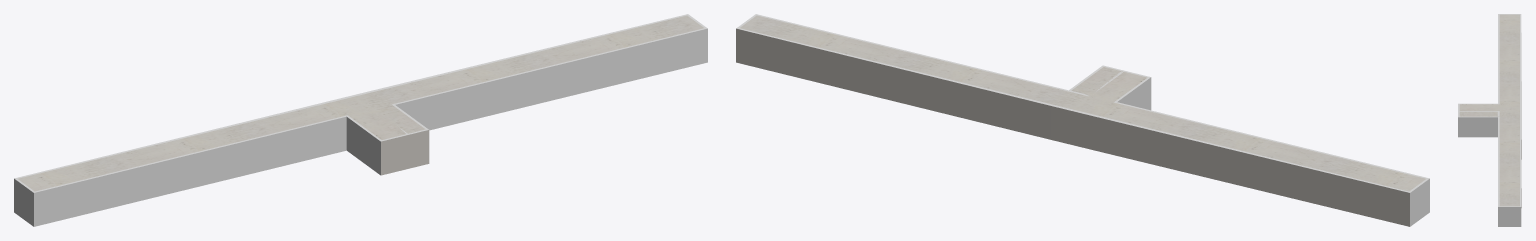
The model's file is 1floor.glb.
The picture shows the model from 3 angles, left to right: view 1: azimuth 30°, elevation 25°; view 2: azimuth 150°, elevation 25°; view 3: azimuth 270°, elevation 25°; orthographic projection. The views are drawn at different scales.
Parts seen in each view (by area): view 1: Плоскость.001; view 2: Плоскость.001; view 3: Плоскость.001.
Boxes of the visible parts, x1,y1,x2,y2 form: Плоскость.001: [14, 14, 707, 226]; Плоскость.001: [736, 14, 1429, 226]; Плоскость.001: [1458, 14, 1521, 226].
Size of the model in its own units: 108 by 5.19 by 15.09.
76 materials, 74 textured.
